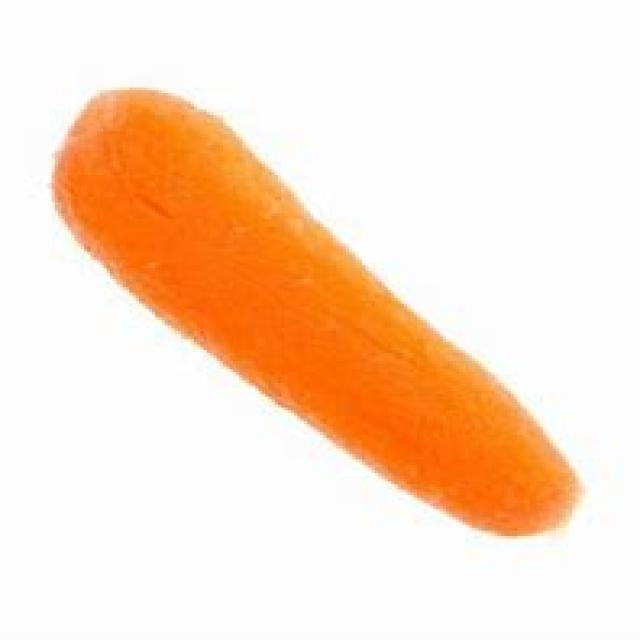Carrot: (64, 85, 578, 541)
